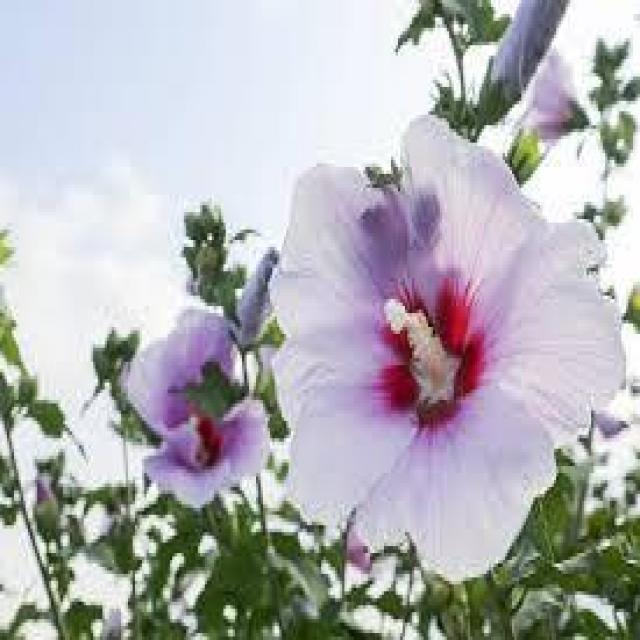organic waste: (256, 124, 619, 579), (108, 244, 299, 512)
